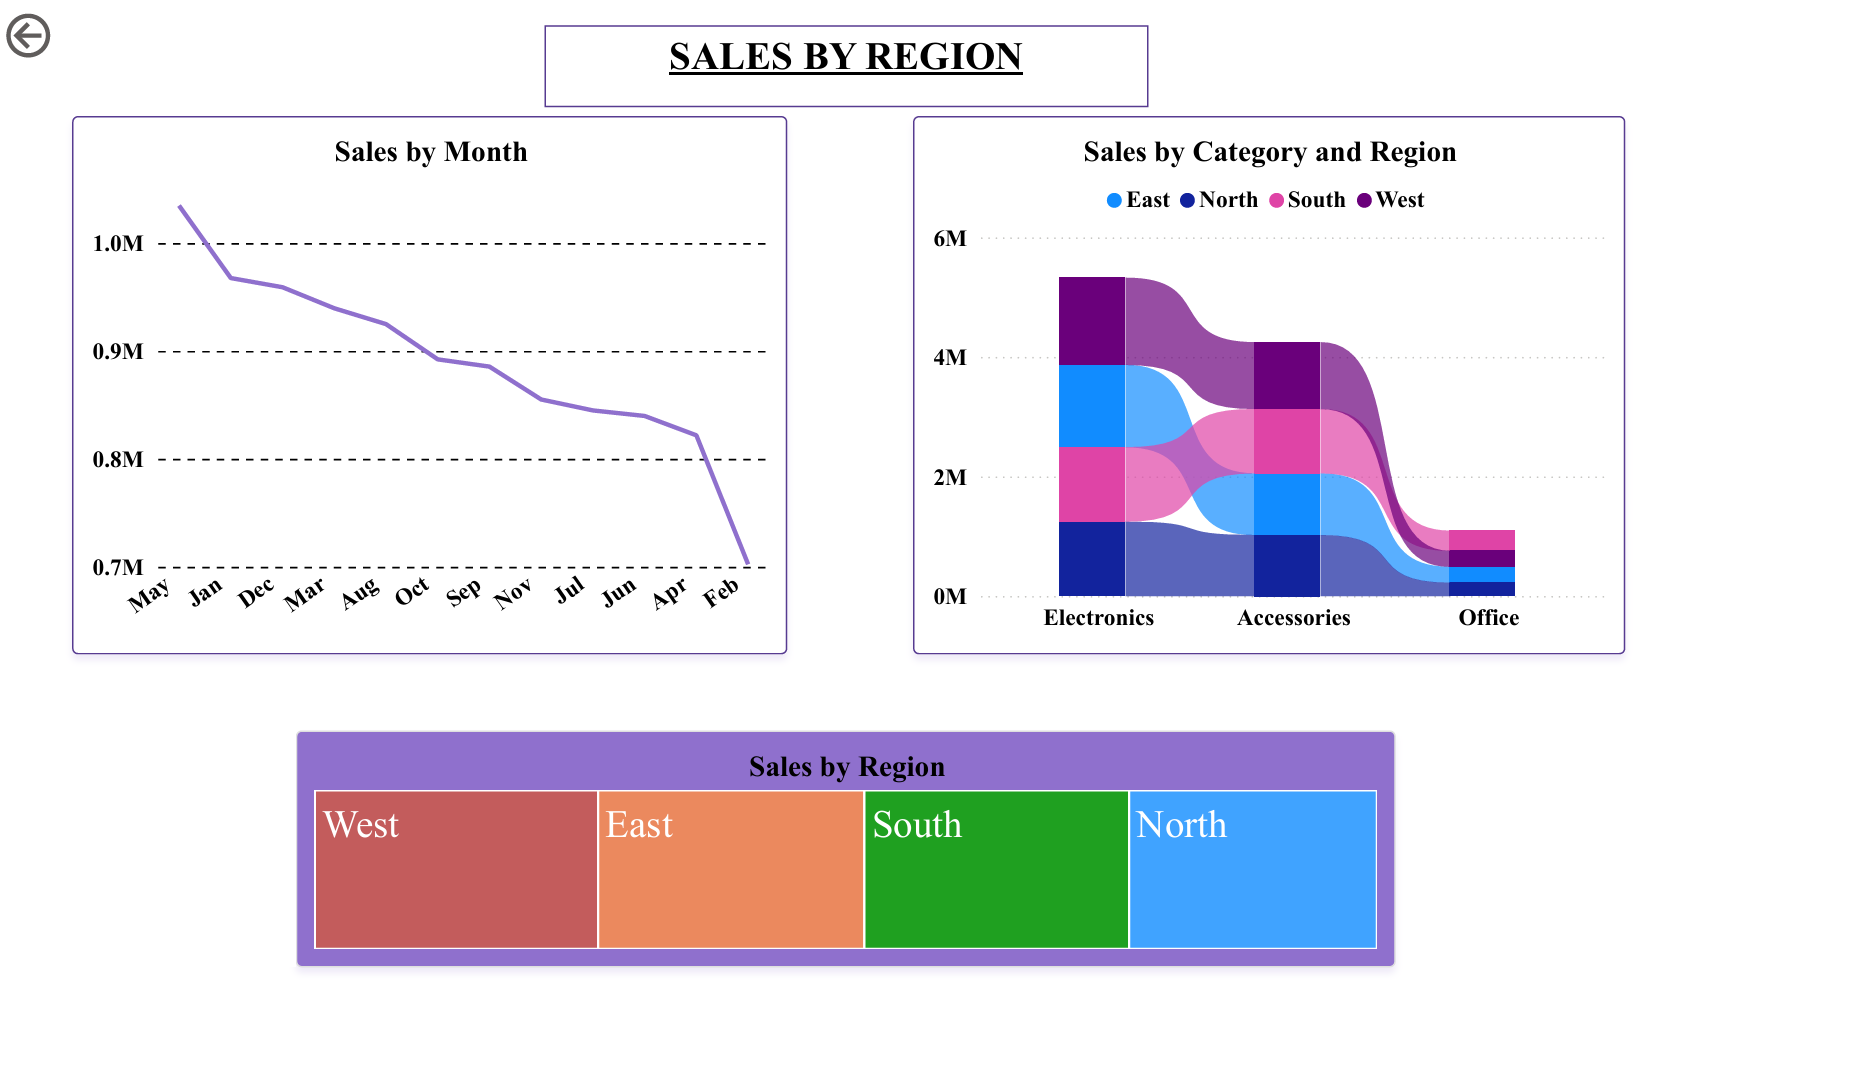

What the dashboard file says about the page in this screenshot:
{"tool":"powerbi","page":{"name":"Region","canvas":[1280,720],"ordinal":1},"visuals":[{"type":"lineChart","title":"Sales by Month","fields":{"Y":["Sum(ecommerce_sales_data.Sales)"],"Category":["ecommerce_sales_data.Month"]},"box":[50.5,75.1,489.3,367.7],"z":0},{"type":"treemap","title":"Sales by Region","fields":{"Group":["ecommerce_sales_data.Region"],"Values":["Sum(ecommerce_sales_data.Sales)"]},"box":[203.2,494.5,752.1,161.8],"z":1000},{"type":"actionButton","box":[0,0,100,40],"z":2000},{"type":"ribbonChart","title":"Sales by Category and Region","fields":{"Category":["ecommerce_sales_data.Category"],"Y":["Sum(ecommerce_sales_data.Sales)"],"Series":["ecommerce_sales_data.Region"]},"box":[625.3,75.1,486.8,367.7],"z":3000},{"type":"textbox","box":[50,495,153,162],"z":4000},{"type":"textbox","box":[372.9,12.9,412.9,55.7],"z":6000}]}

Visuals, with their boxes in screenshot pixels (x1, y1, x2, y2), scaled from the page's 1280x720 canvas onto the 1867x1065 screenshot:
"Sales by Month" lineChart: region(74, 111, 787, 655)
"Sales by Region" treemap: region(296, 731, 1393, 971)
actionButton: region(0, 0, 146, 59)
"Sales by Category and Region" ribbonChart: region(912, 111, 1622, 655)
textbox: region(73, 732, 296, 972)
textbox: region(544, 19, 1146, 101)
